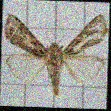Spodoptera litura: (2, 11, 108, 96)
